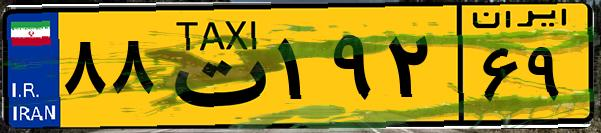1: (270, 28, 330, 110)
2: (385, 28, 445, 110)
6: (475, 38, 525, 113)
8: (57, 26, 110, 100), (110, 28, 158, 98)
9: (330, 28, 385, 110), (525, 38, 570, 115)
ت: (158, 12, 270, 120)
